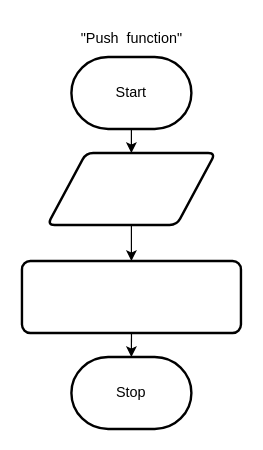
Some shapes in this 263 by 450 pixel diagram are drawn without their labels. Here are the shapes that lost their labels. From the top down, the centre of each, then its label:
At [131,188]: "Get stringPushed".
At [131,296]: "stackAsList.push(stringPushed)".
